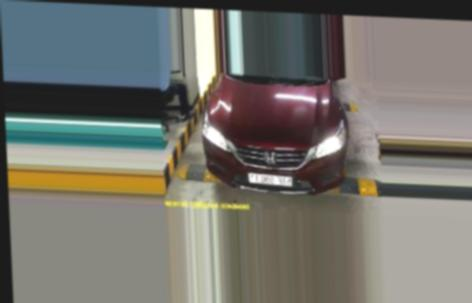License_Plate: (243, 170, 295, 188)
